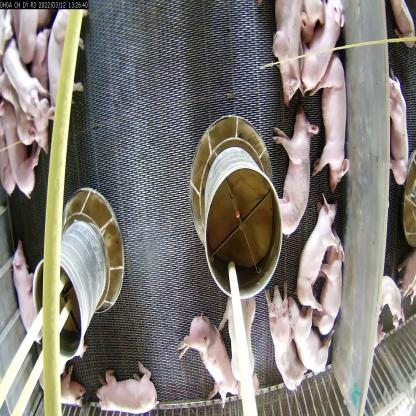Pig: (180, 307, 250, 415), (312, 67, 361, 186), (296, 0, 351, 104), (258, 281, 308, 392), (280, 121, 323, 243), (6, 239, 51, 354), (289, 203, 335, 308), (6, 44, 50, 152), (219, 280, 262, 385), (43, 7, 90, 103), (283, 286, 336, 368), (271, 0, 313, 96), (87, 362, 159, 415), (0, 109, 42, 197), (316, 235, 345, 337)
